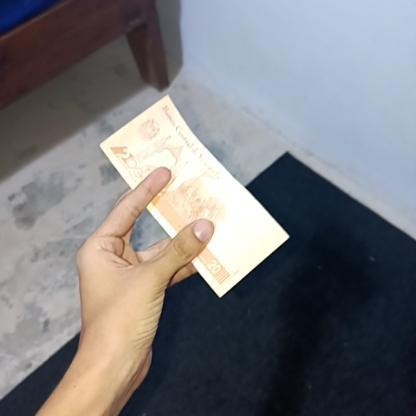twenty-back-vef: (98, 94, 289, 298)
